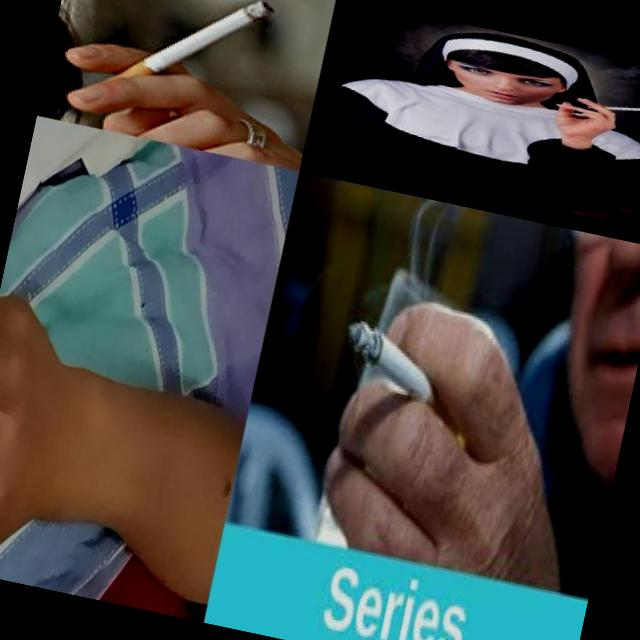smoke: (332, 316, 478, 438), (142, 0, 279, 91), (586, 94, 640, 122)
